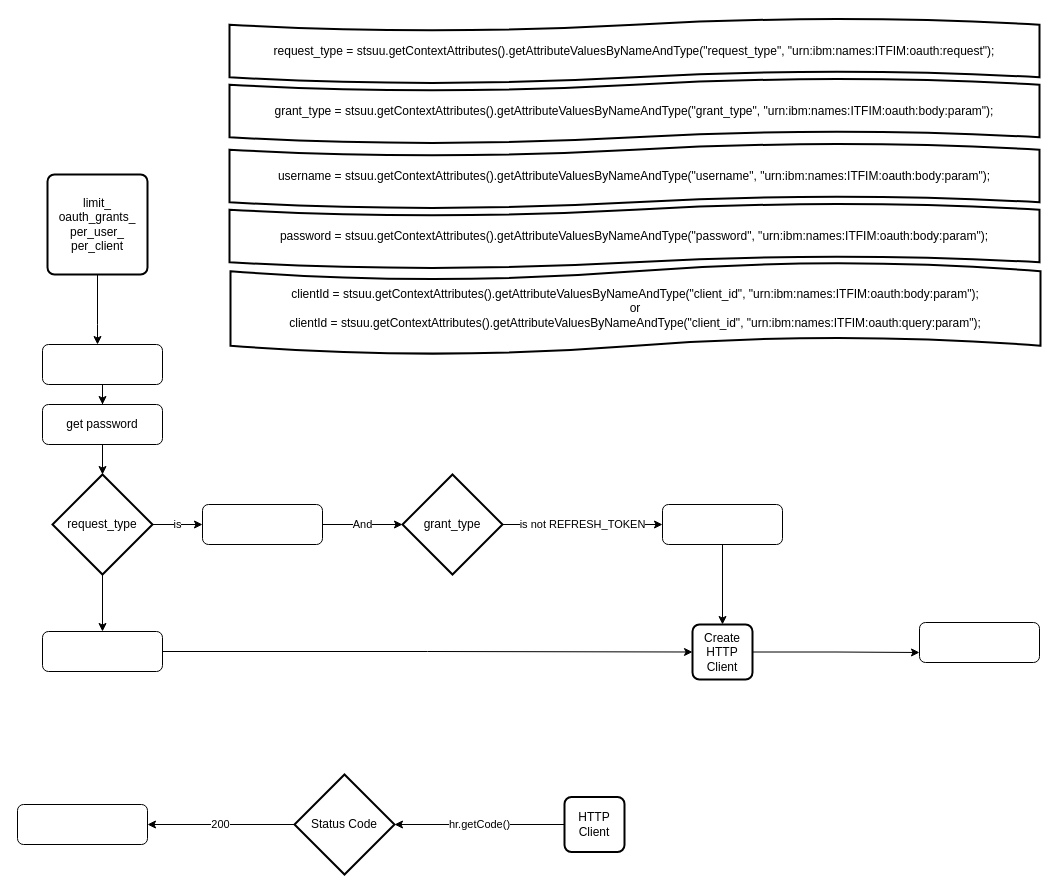
Image size: 1059x892. Some labels were removed from this diagram. The centre of each missing label's shape, as x and y in pixels:
"AccessToken" belongs at point (262, 524).
"Authentication Successful" belongs at point (82, 824).
"authorization" belongs at point (102, 651).
"ClientID" belongs at point (979, 642).
"get username" belongs at point (102, 364).
"Password" belongs at point (722, 524).
